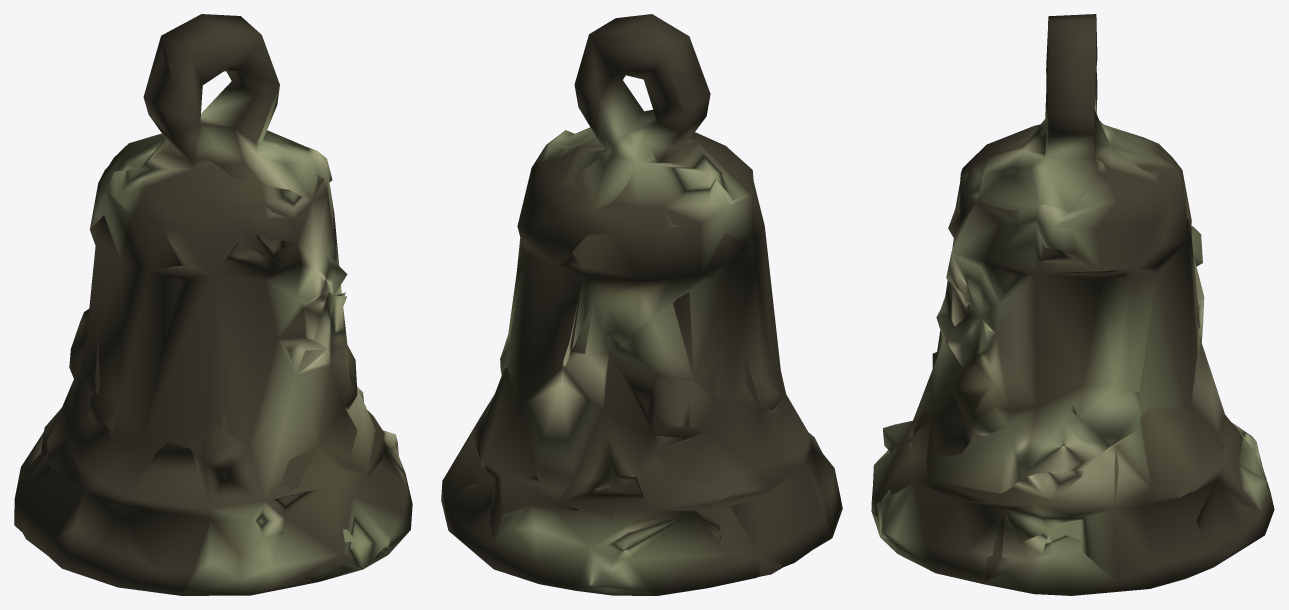
File: gen3d-sunken-bell-lod1.glb
The picture shows the model from 3 angles, left to right: view 1: azimuth 30°, elevation 25°; view 2: azimuth 150°, elevation 25°; view 3: azimuth 270°, elevation 25°; orthographic projection.
Parts seen in each view (by area): view 1: part_0; view 2: part_0; view 3: part_0.
Part boxes in pixels (x1,y1,x2,y2): part_0: (14,14,412,595); part_0: (441,14,842,595); part_0: (871,14,1274,595).
Bounding box in the file's own units: 0.7165 × 0.9977 × 0.7198.
